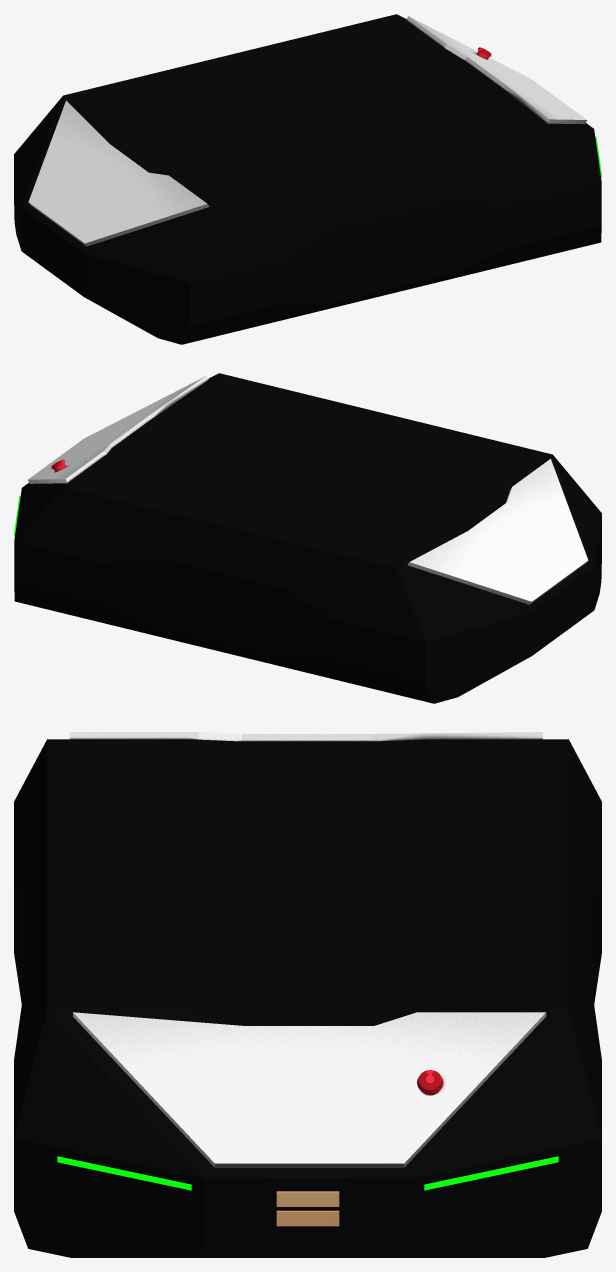
File: rbvogui_chassis_v4.dae
3 renders of one model, top to bottom at view 1: azimuth 30°, elevation 25°; view 2: azimuth 150°, elevation 25°; view 3: azimuth 270°, elevation 25°, orthographic. The views are drawn at different scales.
Visible parts, largest first — view 1: rbvogui_chassis_v3, backmetalplate; view 2: rbvogui_chassis_v3, backmetalplate; view 3: rbvogui_chassis_v3, backmetalplate, chargingporst, frontlights.
Boxes of the visible parts, x1=… form: rbvogui_chassis_v3: x1=14, y1=14, x2=601, y2=344; backmetalplate: x1=28, y1=16, x2=586, y2=246; rbvogui_chassis_v3: x1=14, y1=373, x2=601, y2=703; backmetalplate: x1=28, y1=375, x2=588, y2=604; rbvogui_chassis_v3: x1=14, y1=739, x2=601, y2=1257; backmetalplate: x1=69, y1=732, x2=546, y2=1167; chargingporst: x1=276, y1=1191, x2=339, y2=1226; frontlights: x1=57, y1=1156, x2=558, y2=1190.
Bounding box in the file's own units: 1.05 × 0.62 × 0.2489.
Materials: 6 (3 with a texture image).
